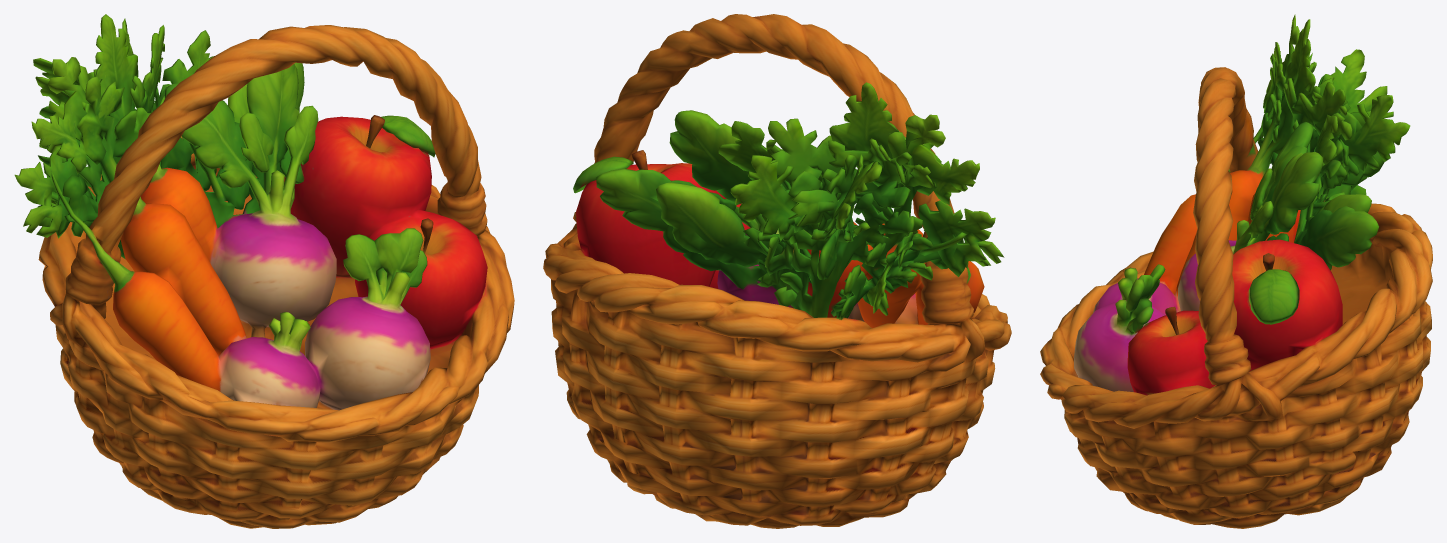
The model's file is basekt_of_vegetables.glb.
3 renders of one model, left to right at view 1: azimuth 30°, elevation 25°; view 2: azimuth 150°, elevation 25°; view 3: azimuth 270°, elevation 25°, orthographic. The views are drawn at different scales.
Visible parts, largest first — view 1: tripo_node_276e4860-e0ee-4bb5-b455-c806e024b42a; view 2: tripo_node_276e4860-e0ee-4bb5-b455-c806e024b42a; view 3: tripo_node_276e4860-e0ee-4bb5-b455-c806e024b42a.
Part boxes in pixels (x1,y1,x2,y2): tripo_node_276e4860-e0ee-4bb5-b455-c806e024b42a: [14, 14, 514, 528]; tripo_node_276e4860-e0ee-4bb5-b455-c806e024b42a: [543, 14, 1011, 528]; tripo_node_276e4860-e0ee-4bb5-b455-c806e024b42a: [1040, 14, 1432, 528].
Size of the model in its own units: 0.978 by 0.9779 by 0.8402.
Materials: 1 (1 with a texture image).
